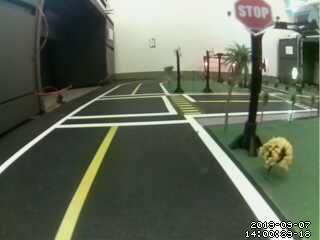Stop_Sign: (232, 2, 276, 35)
